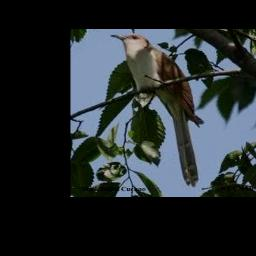Cuckoo: (110, 34, 204, 186)
